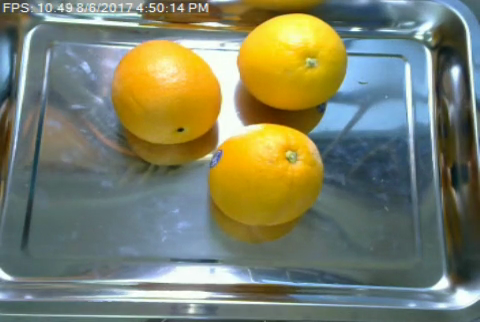Orange: (206, 122, 325, 225), (112, 38, 220, 144), (237, 14, 349, 110)
